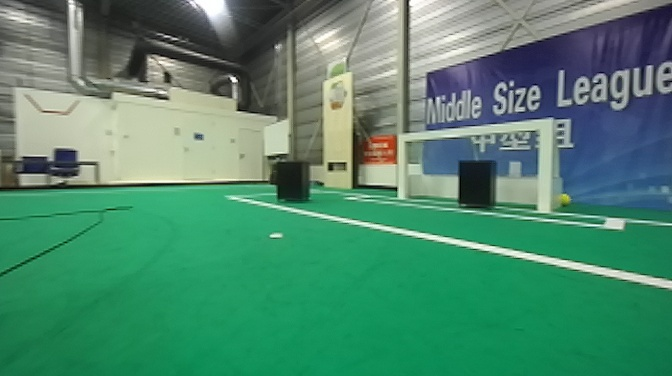ball: (554, 189, 573, 210)
goalpost: (532, 114, 561, 219), (397, 134, 411, 199)
